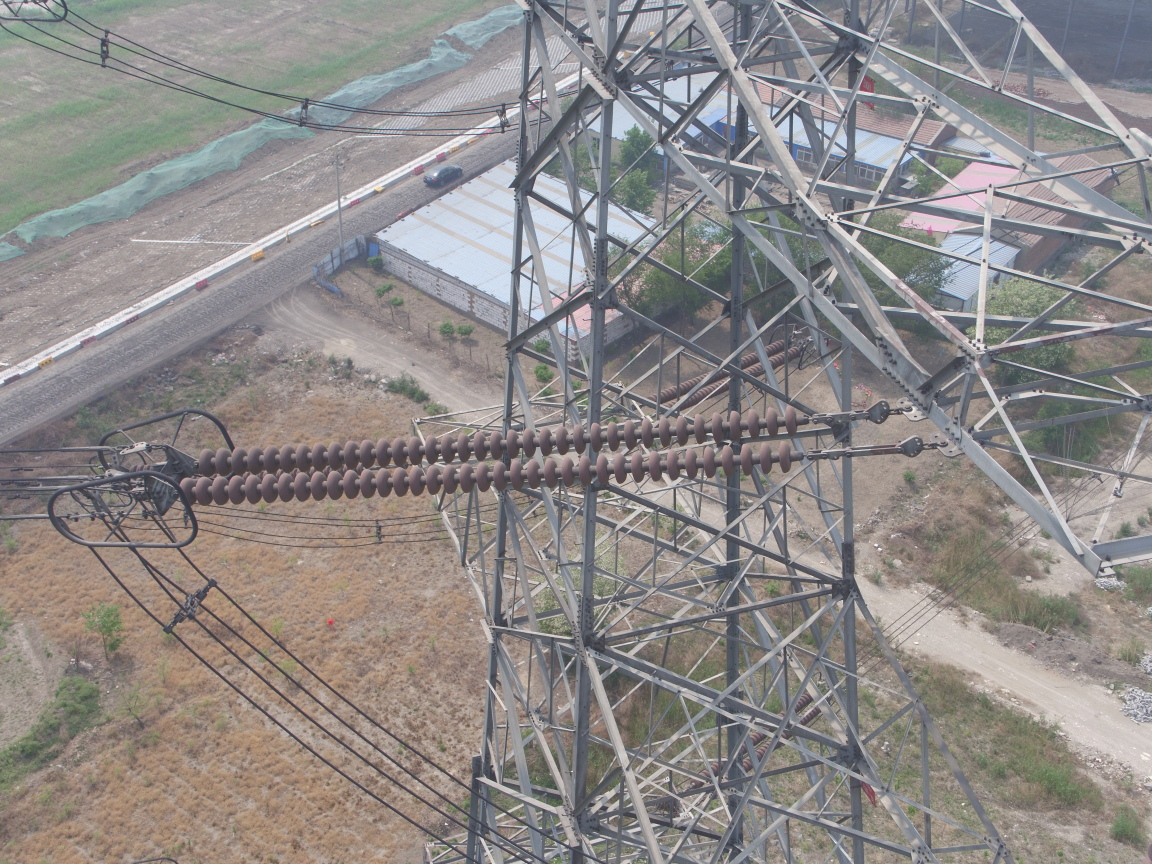insulator: (165, 403, 850, 509)
